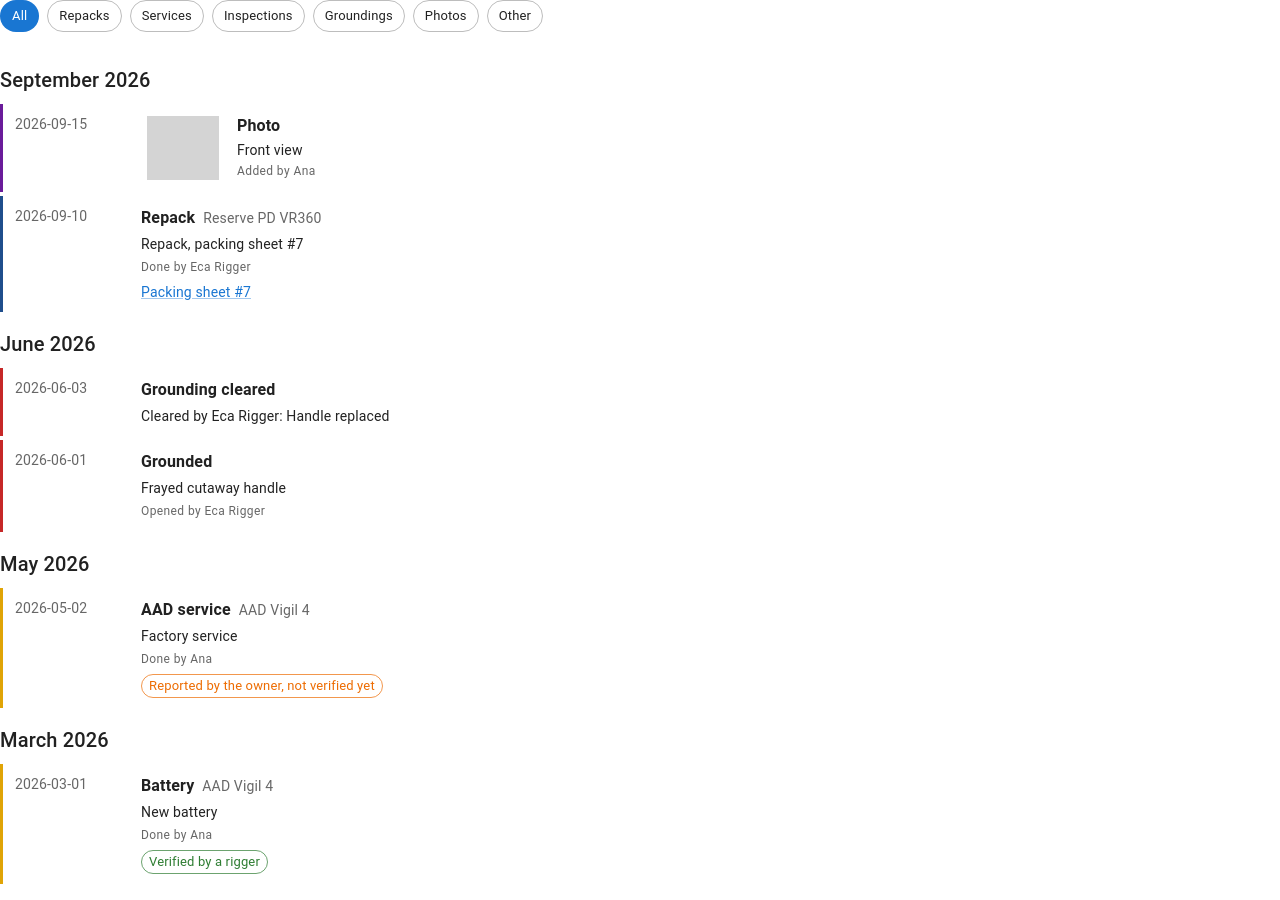
Test case: RigTimeline › a photo opens larger
The width and height of the screenshot is (1280, 900).
Click the button named "Open photo: Front view": (183, 148) [141,116,225,180]
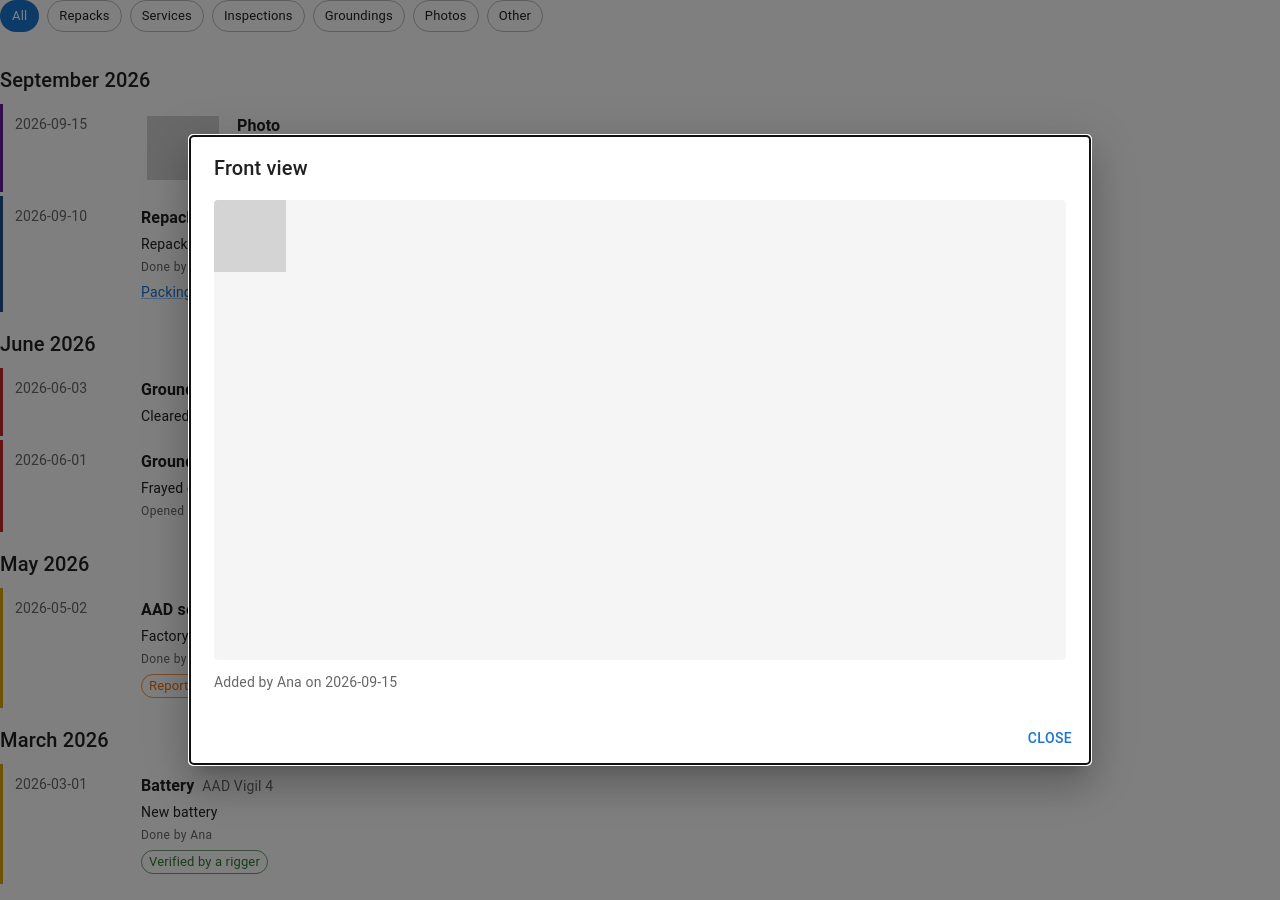
Expected: the text "Added by Ana on 2026-09-15" is shown, [214,674,397,690]
